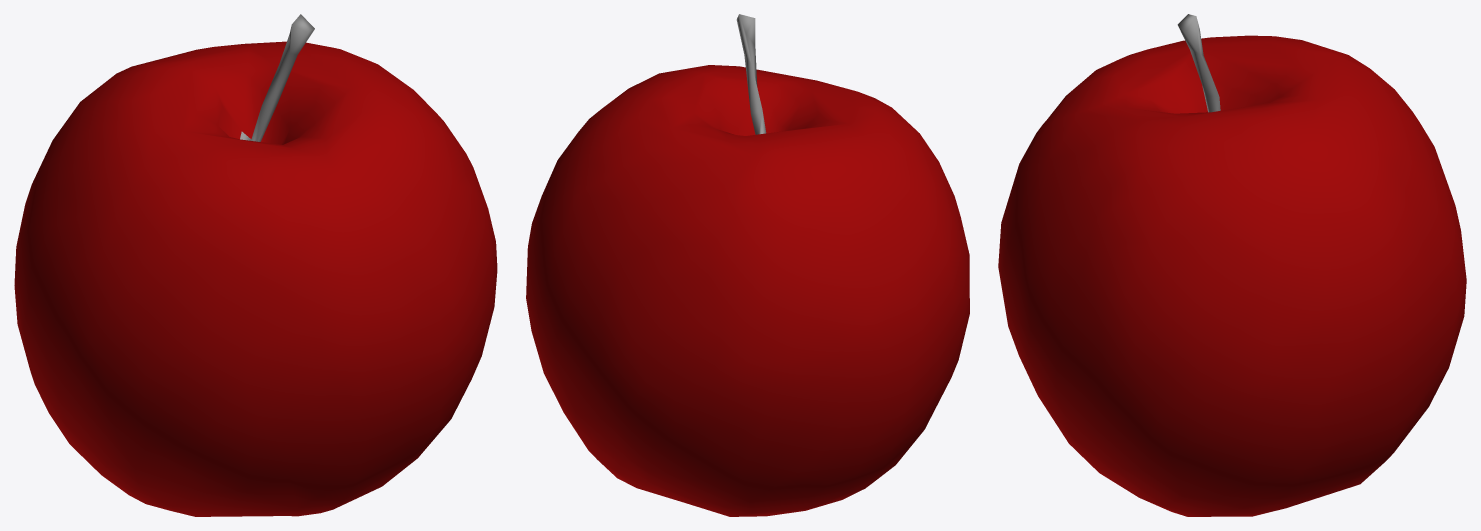
The model's file is apple.FBX.
3 renders of one model, left to right at view 1: azimuth 30°, elevation 25°; view 2: azimuth 150°, elevation 25°; view 3: azimuth 270°, elevation 25°, orthographic. The views are drawn at different scales.
Parts seen in each view (by area): view 1: default; view 2: default; view 3: default.
Boxes of the visible parts, <box> form: default: <box>14,14,497,516</box>; default: <box>526,14,969,516</box>; default: <box>998,14,1466,516</box>.
Size of the model in its own units: 155 by 167 by 151.
